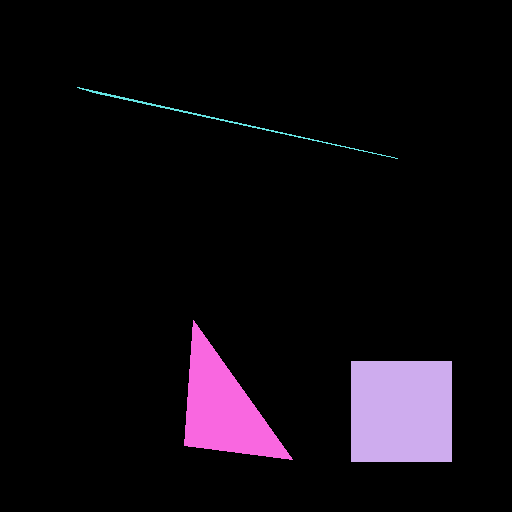square: (351, 361, 451, 461)
triangle: (184, 320, 292, 459)
